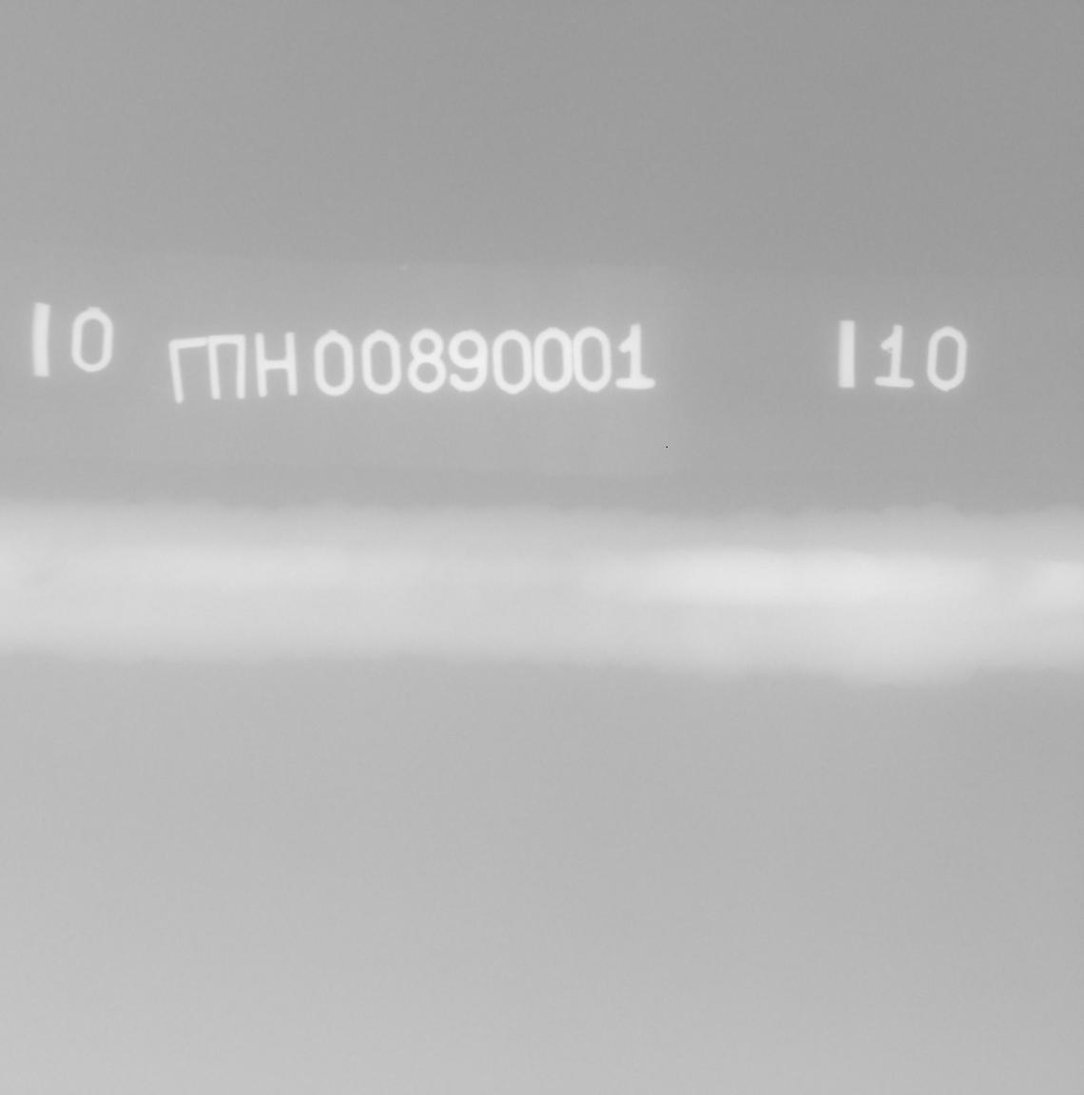Inclusion: (33, 568, 56, 588)
